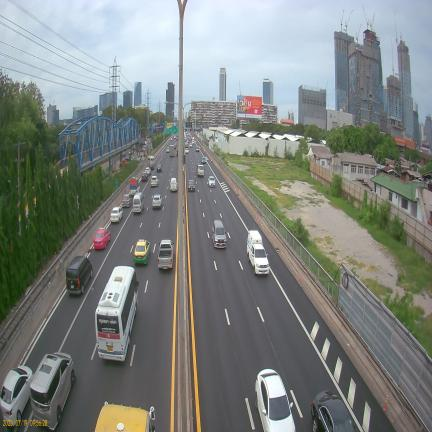bus: (95, 266, 138, 361)
car: (255, 369, 295, 432), (0, 366, 33, 428), (311, 391, 354, 432), (212, 220, 226, 248), (110, 207, 123, 222), (122, 192, 132, 207), (152, 194, 162, 208), (170, 178, 178, 192), (151, 175, 159, 187), (188, 179, 195, 192), (142, 171, 149, 182), (208, 176, 215, 187), (145, 167, 151, 176), (156, 164, 162, 172), (149, 162, 154, 170), (201, 157, 206, 164), (185, 147, 189, 154), (185, 142, 189, 148), (195, 147, 199, 152), (166, 147, 169, 153)
pickup: (248, 244, 269, 274), (158, 240, 174, 269), (247, 230, 262, 251)
taxi: (134, 240, 150, 264), (94, 228, 110, 249)
truck: (130, 177, 139, 195), (197, 164, 204, 177), (169, 145, 174, 157)
van: (30, 352, 75, 430), (66, 256, 92, 294), (133, 192, 144, 213), (148, 155, 155, 162)
